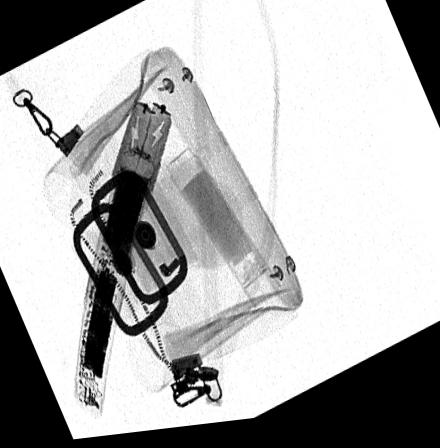Baton: (71, 103, 173, 421)
